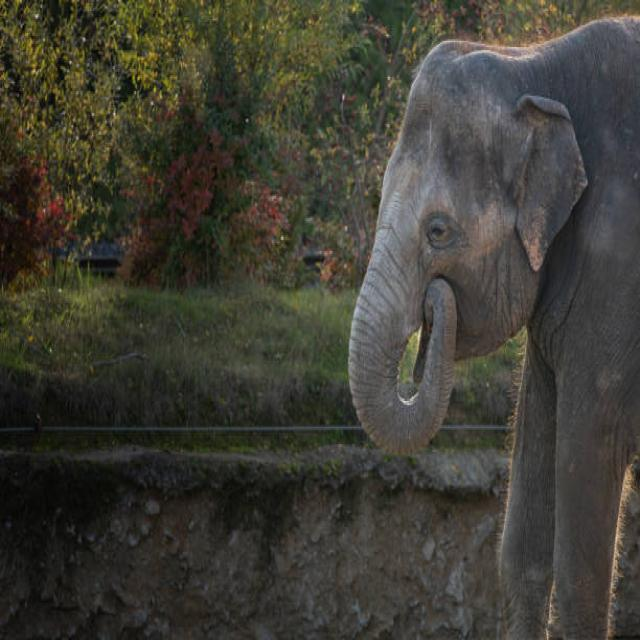Elephant: (348, 1, 640, 613)
